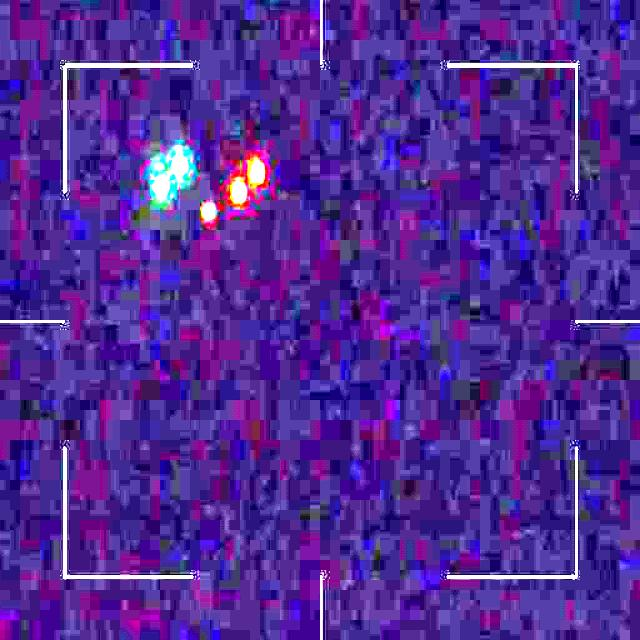bird: (154, 152, 269, 220)
